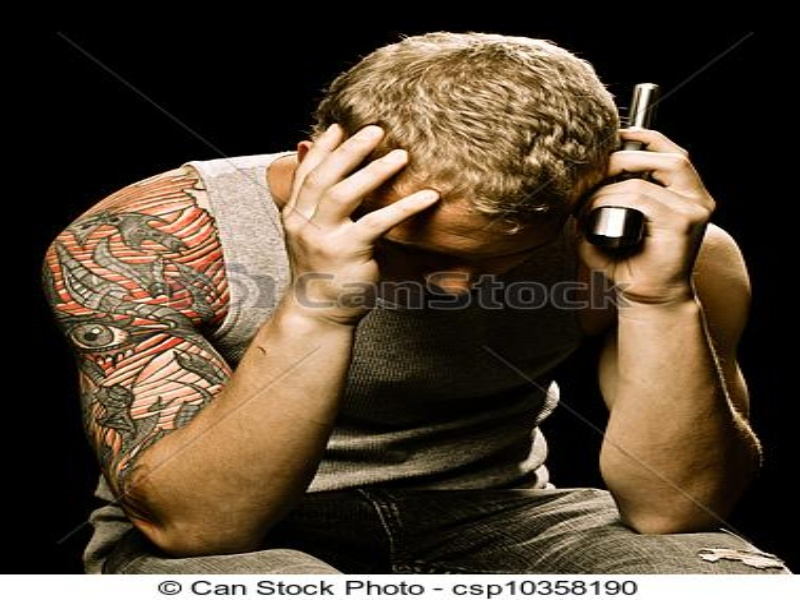gun: (587, 81, 665, 243)
